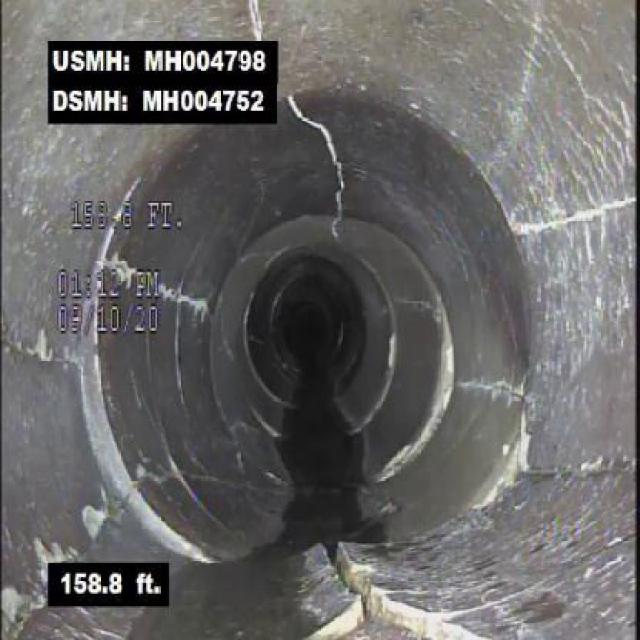Buckling: (262, 523, 480, 639)
Crack: (512, 160, 638, 266), (288, 92, 364, 210)
Joint offset: (46, 338, 163, 557)
